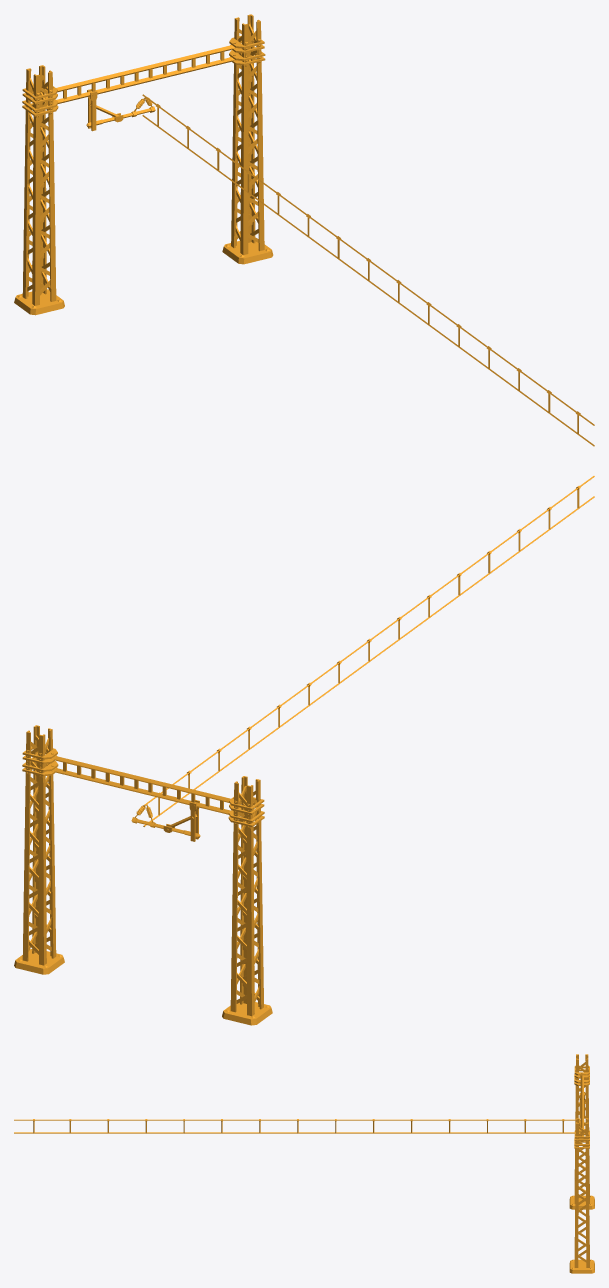
File: SM_Train_Wiring.fbx
The picture shows the model from 3 angles, top to bottom: view 1: azimuth 30°, elevation 25°; view 2: azimuth 150°, elevation 25°; view 3: azimuth 270°, elevation 25°; orthographic projection. The views are drawn at different scales.
Parts seen in each view (by area): view 1: SM_Train_Wiring; view 2: SM_Train_Wiring; view 3: SM_Train_Wiring.
Boxes of the visible parts, box(x1,y1,x2,y2) form: SM_Train_Wiring: box(14, 14, 594, 446); SM_Train_Wiring: box(14, 476, 594, 1025); SM_Train_Wiring: box(14, 1054, 594, 1273).
Bounding box in the file's own units: 9.34 × 8.58 × 30.67.
